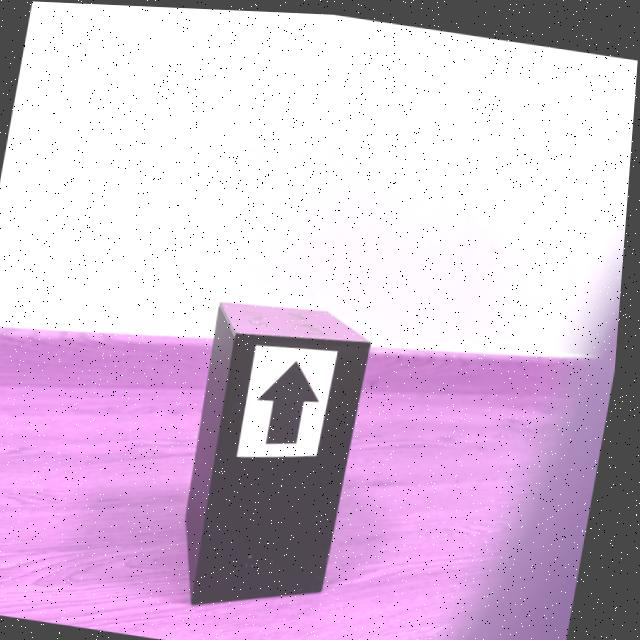UP: (262, 358, 326, 441)
